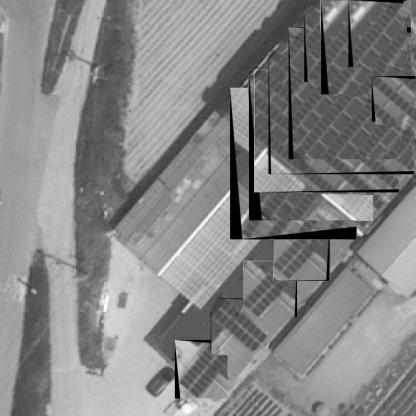solar-pv-panel: (254, 70, 399, 190), (269, 52, 414, 172), (240, 88, 355, 239), (259, 78, 373, 220), (292, 32, 411, 159), (327, 0, 407, 94), (307, 13, 365, 82), (352, 2, 404, 67), (274, 224, 329, 281), (243, 261, 296, 317), (211, 299, 268, 350), (179, 343, 228, 398), (373, 77, 415, 121)
